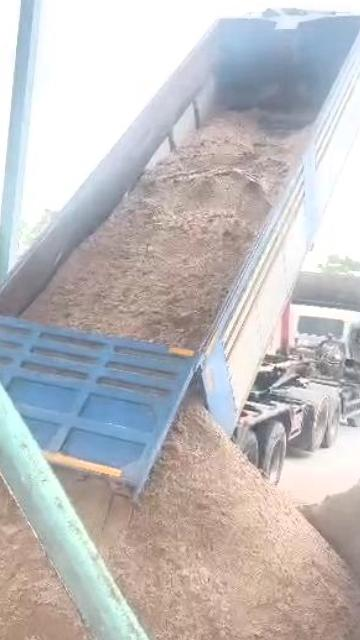sand: (65, 404, 360, 640), (24, 111, 306, 348), (0, 447, 131, 640), (301, 469, 360, 589)
